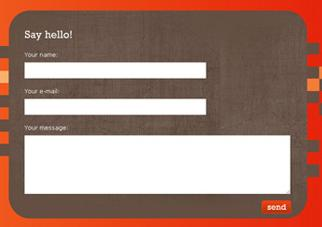button: (261, 200, 291, 213)
field: (23, 133, 291, 195), (23, 61, 207, 80), (23, 97, 207, 116)
